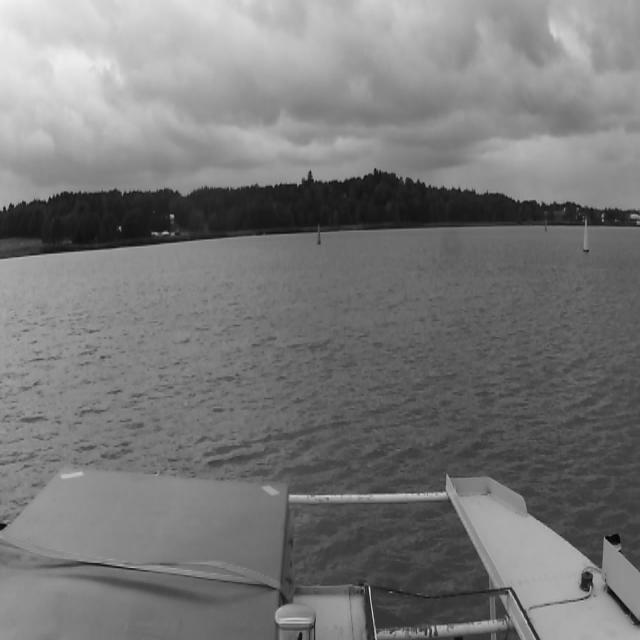buoy: (583, 218, 589, 252), (317, 224, 321, 245), (544, 220, 548, 232)
